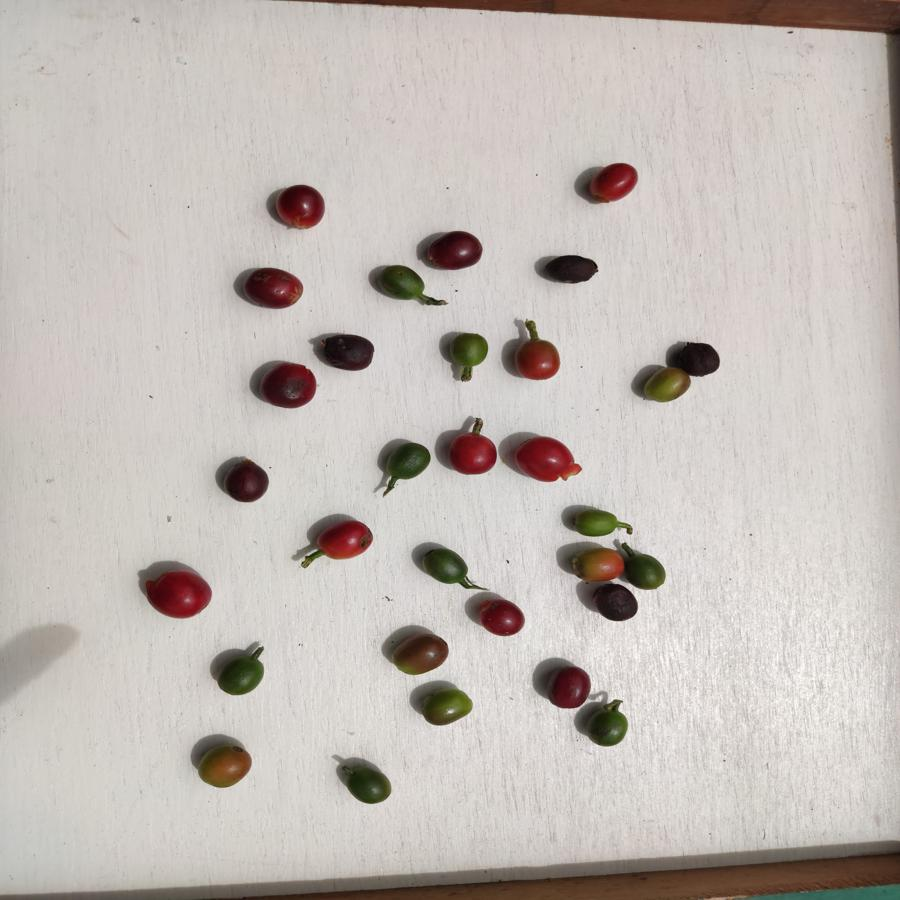Inmaduro: (371, 263, 424, 309), (417, 542, 468, 589), (345, 762, 393, 808), (380, 440, 432, 482), (217, 655, 264, 701), (583, 705, 629, 746), (448, 331, 489, 371), (626, 550, 667, 589)
Maduro: (512, 430, 576, 486), (144, 572, 214, 617), (444, 431, 502, 477), (316, 522, 374, 559), (586, 163, 639, 202), (514, 338, 563, 380)
Pinton: (389, 631, 451, 677), (196, 741, 253, 790), (423, 685, 475, 732), (568, 543, 625, 584), (568, 502, 623, 541), (642, 367, 688, 400)
Sobremaduro: (258, 359, 320, 407), (243, 266, 304, 309), (273, 183, 326, 232), (426, 230, 485, 272), (222, 459, 272, 504), (476, 598, 527, 640), (537, 254, 604, 285), (321, 333, 376, 369), (593, 582, 641, 623), (546, 665, 588, 711), (669, 340, 722, 375)
